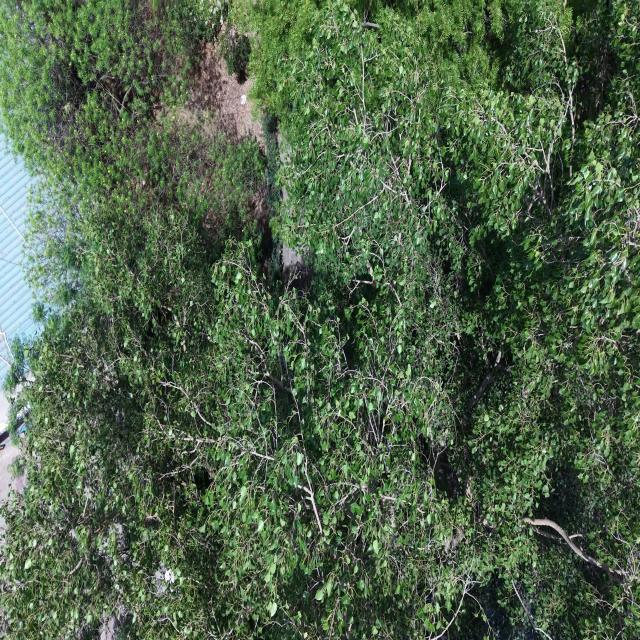DRY_AREA: (157, 43, 264, 149), (175, 43, 263, 148), (181, 43, 264, 149), (187, 43, 263, 146), (0, 438, 24, 502), (0, 439, 24, 502)
VEGETATION_TREE: (0, 0, 639, 639)
